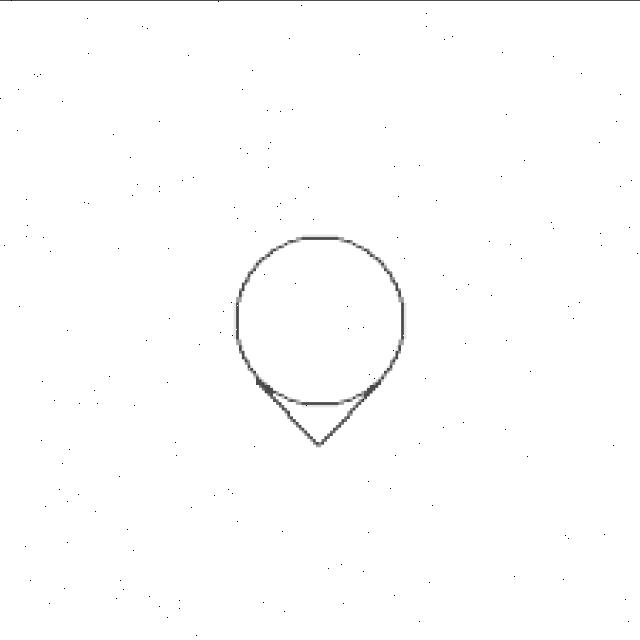Rotameter: (200, 200, 470, 482)
